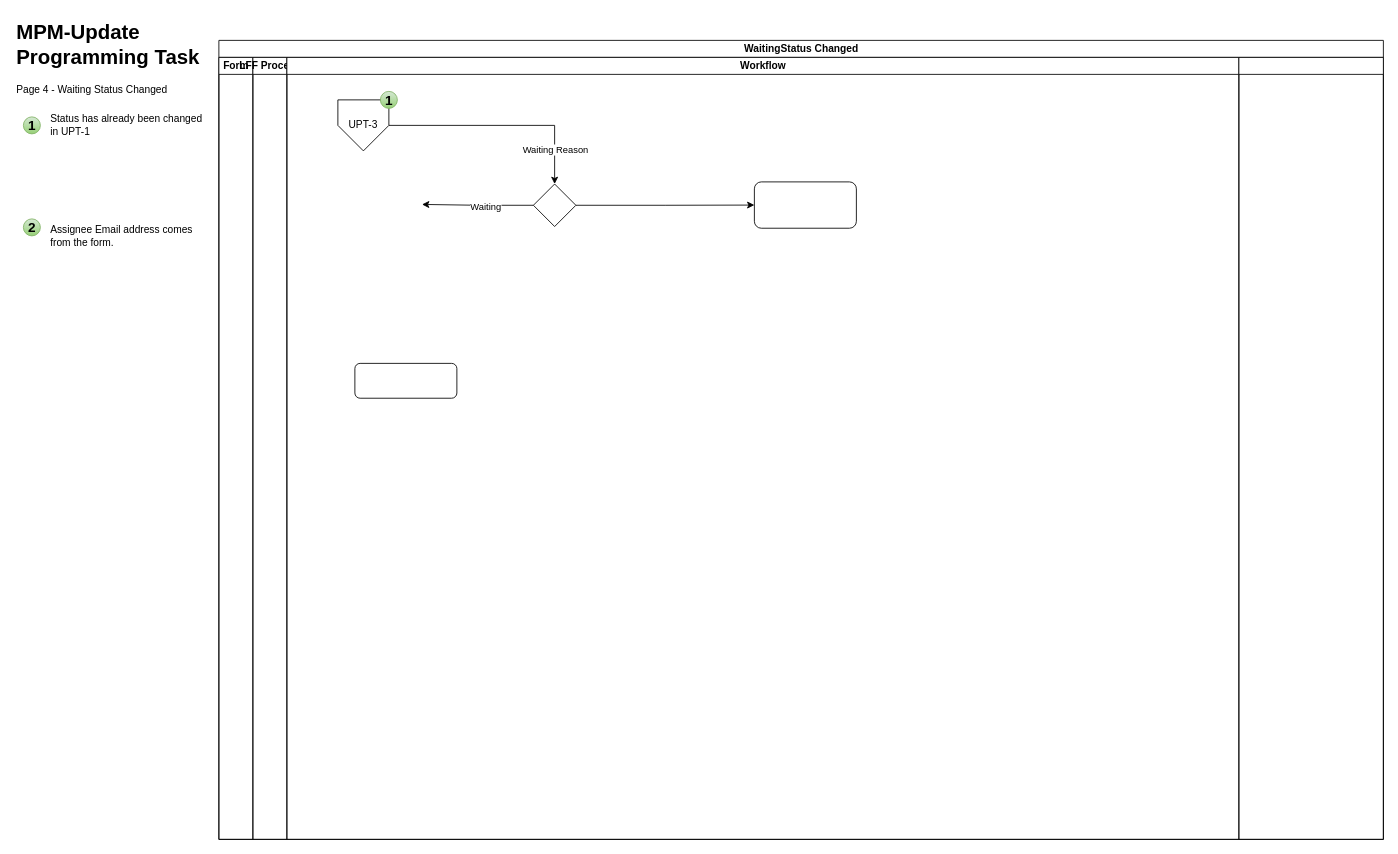
Some shapes in this 1398 by 854 pixel diagram are drawn without their labels. The shapes that lost their labels are listed below. From the top down, each one's centre as x and y in pixels, then its label:
point 805,204: Call "Add Cancellation Note" Sproc
point 405,380: Cancelled
point 1310,448: Database
